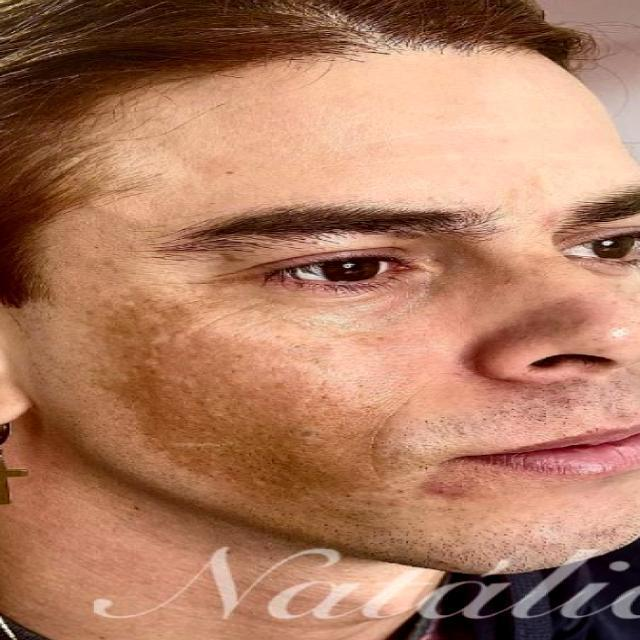Melasma: (72, 276, 416, 540)
